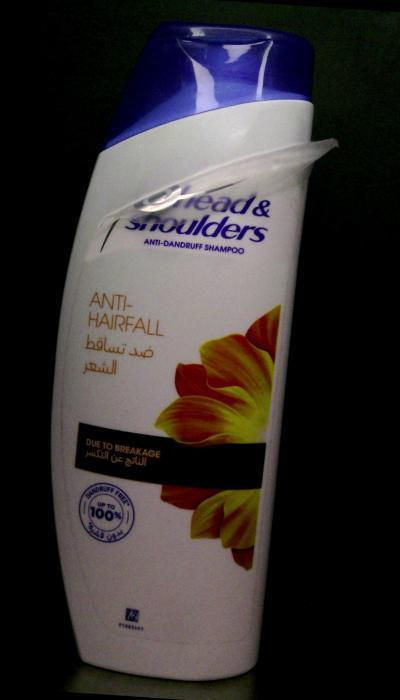adhesion_unacc: (93, 121, 345, 249)
